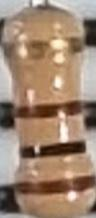Black: (20, 137, 88, 160)
Brown: (15, 172, 96, 200), (13, 98, 83, 122)
Side-Gold: (1, 35, 86, 63)
